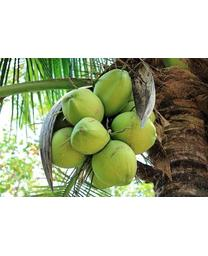coconut: (91, 138, 135, 186), (110, 113, 158, 151), (92, 67, 130, 114), (60, 89, 104, 128), (68, 117, 112, 155), (47, 128, 87, 169)
